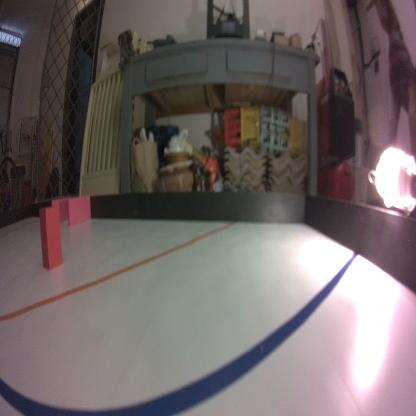magenta: (66, 194, 91, 226)
red: (38, 203, 63, 272)
